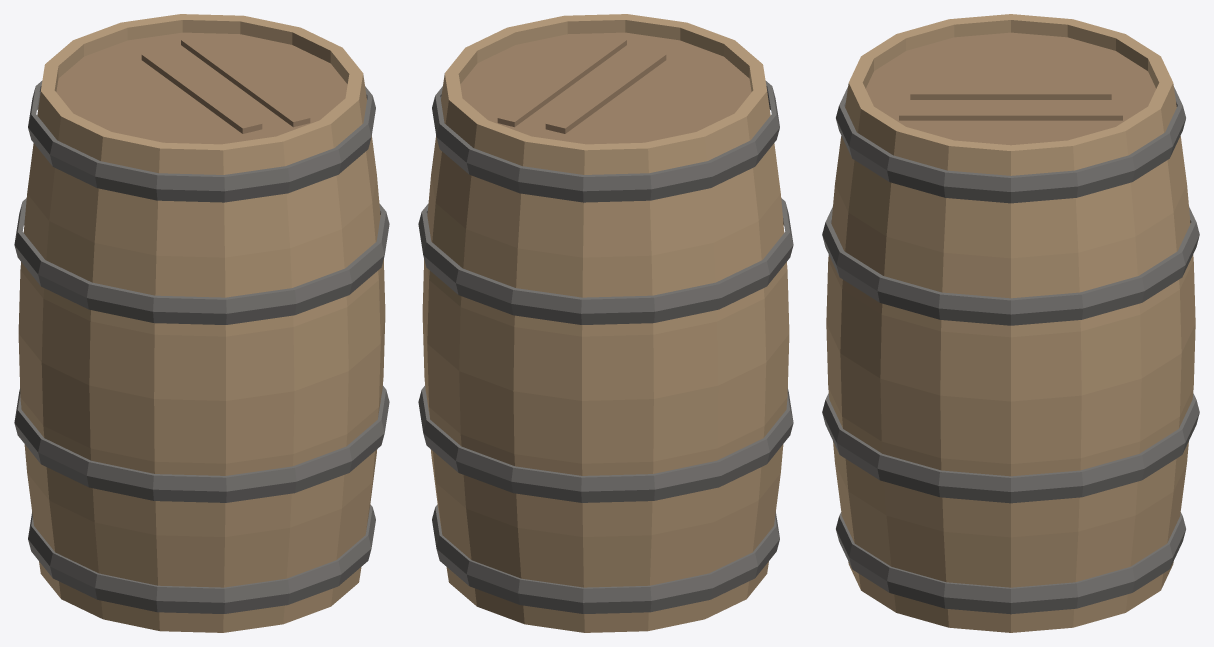
File: prop-barrel-wood.fbx
3 views of the same model, side by side, from view 1: azimuth 30°, elevation 25°; view 2: azimuth 150°, elevation 25°; view 3: azimuth 270°, elevation 25° (orthographic).
Parts seen in each view (by area): view 1: prop-barrel-wood; view 2: prop-barrel-wood; view 3: prop-barrel-wood.
Boxes of the visible parts, x1,y1,x2,y2 form: prop-barrel-wood: (14, 14, 389, 632); prop-barrel-wood: (418, 14, 793, 632); prop-barrel-wood: (822, 14, 1199, 632).
Size of the model in its own units: 0.675 by 0.95 by 0.675.
